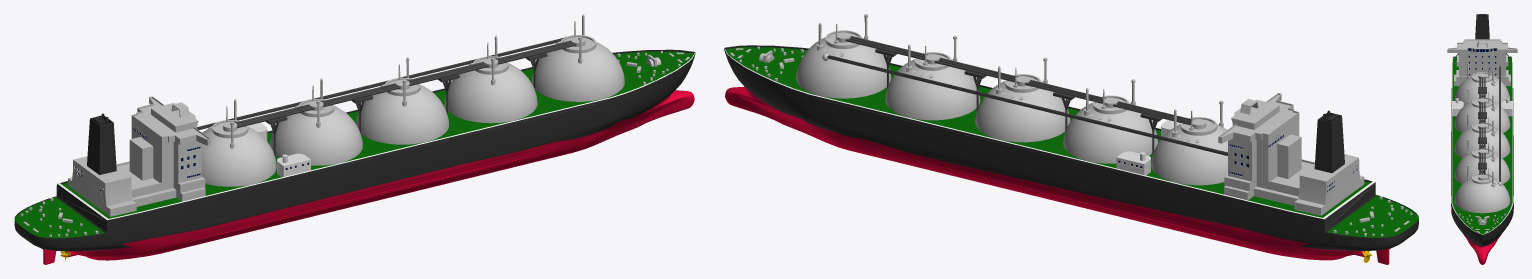
File: lng-ship.glb
3 views of the same model, side by side, from view 1: azimuth 30°, elevation 25°; view 2: azimuth 150°, elevation 25°; view 3: azimuth 270°, elevation 25° (orthographic). The views are drawn at different scales.
Parts seen in each view (by area): view 1: lng-ship; view 2: lng-ship; view 3: lng-ship.
Part boxes in pixels (bbox=[...]): lng-ship: bbox=[14, 14, 695, 264]; lng-ship: bbox=[724, 14, 1418, 264]; lng-ship: bbox=[1447, 14, 1517, 264].
Bounding box in the file's own units: 290 × 56.71 × 43.88.
